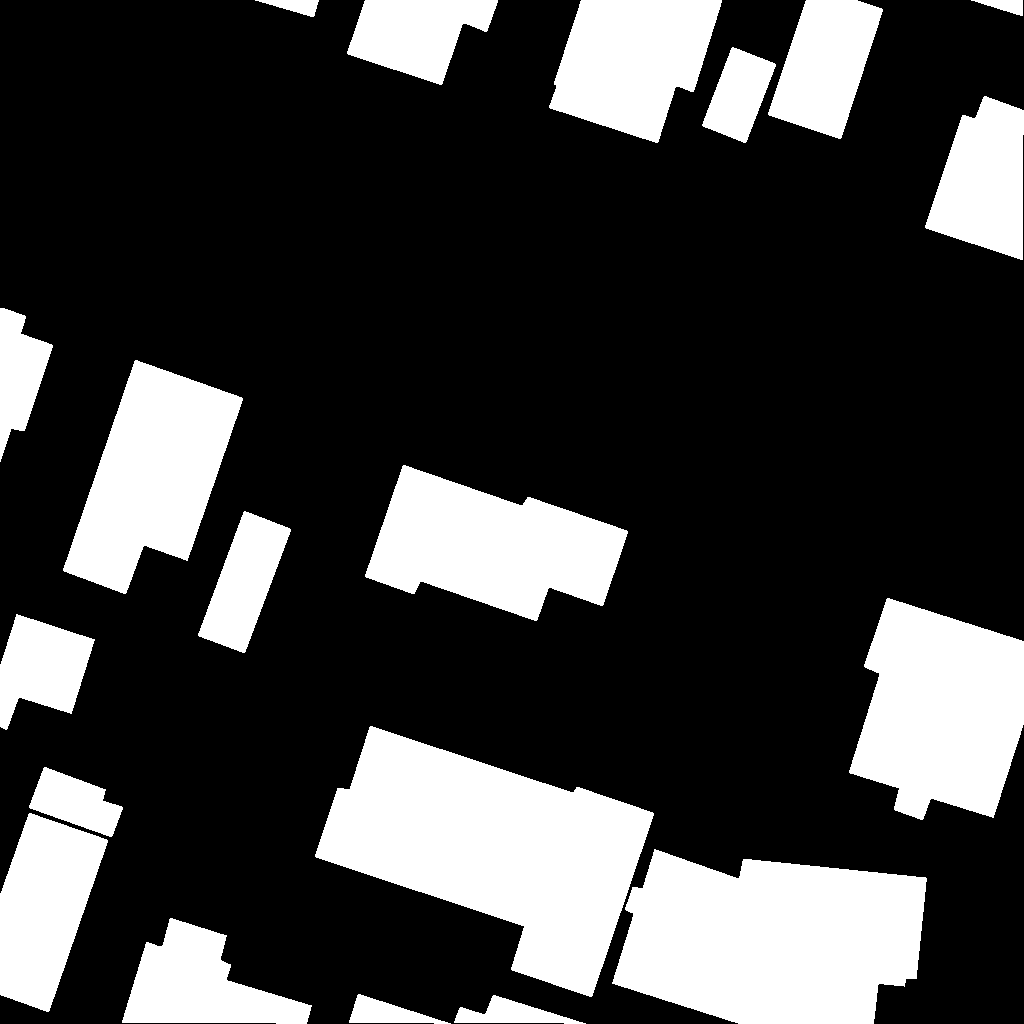building: (315, 726, 655, 998), (612, 849, 928, 1024), (63, 360, 244, 595), (365, 465, 629, 622), (849, 598, 1024, 821), (549, 0, 723, 144), (0, 813, 109, 1013), (122, 918, 313, 1024), (925, 96, 1024, 261), (768, 0, 884, 140), (198, 511, 292, 654), (347, 0, 499, 86), (0, 614, 96, 731), (0, 308, 54, 464), (702, 47, 777, 144), (349, 994, 587, 1024), (29, 767, 124, 838), (254, 0, 320, 18), (970, 0, 1024, 17)
